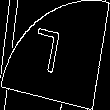L_S: (37, 27, 73, 83)
